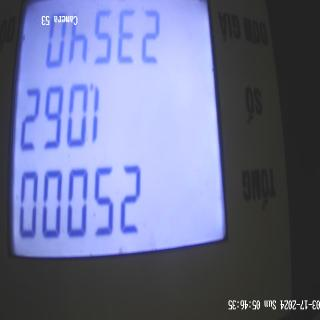screen: (4, 0, 233, 277)
